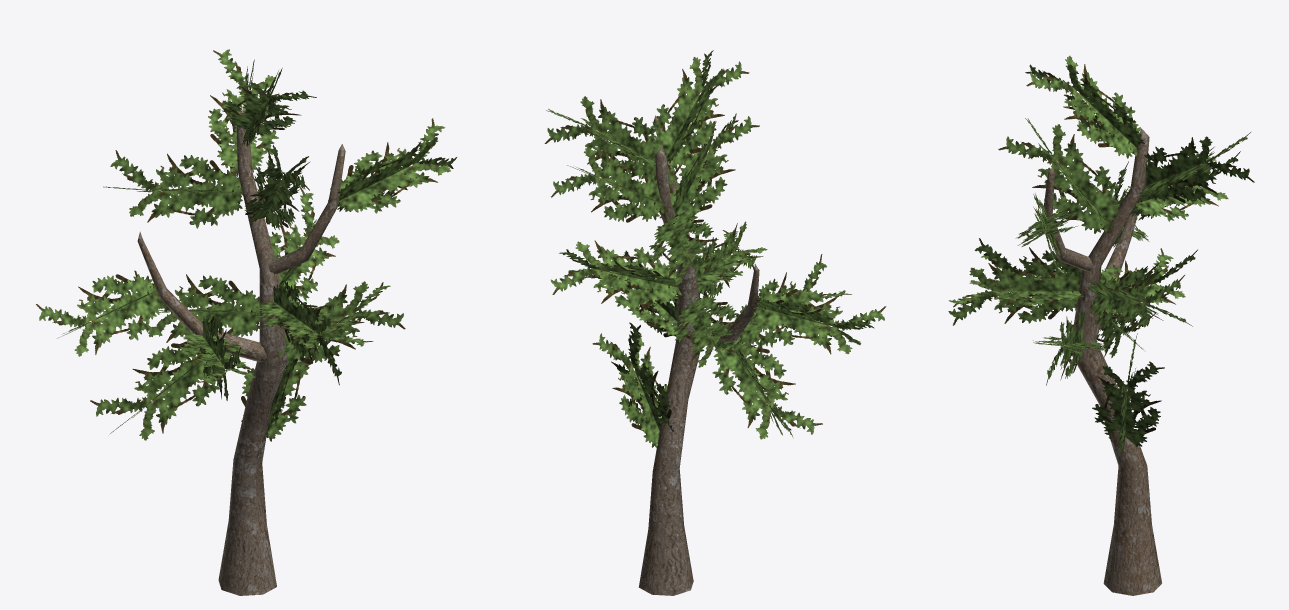
Rendered from TerrainTree2.fbx.
3 views of the same model, side by side, from view 1: azimuth 30°, elevation 25°; view 2: azimuth 150°, elevation 25°; view 3: azimuth 270°, elevation 25° (orthographic). The views are drawn at different scales.
Parts seen in each view (by area): view 1: Tree4; view 2: Tree4; view 3: Tree4.
Boxes of the visible parts, box(x1,y1,x2,y2) form: Tree4: box(36, 49, 456, 595); Tree4: box(544, 50, 886, 595); Tree4: box(948, 55, 1254, 595).
Bounding box in the file's own units: 358 × 473 × 261.
